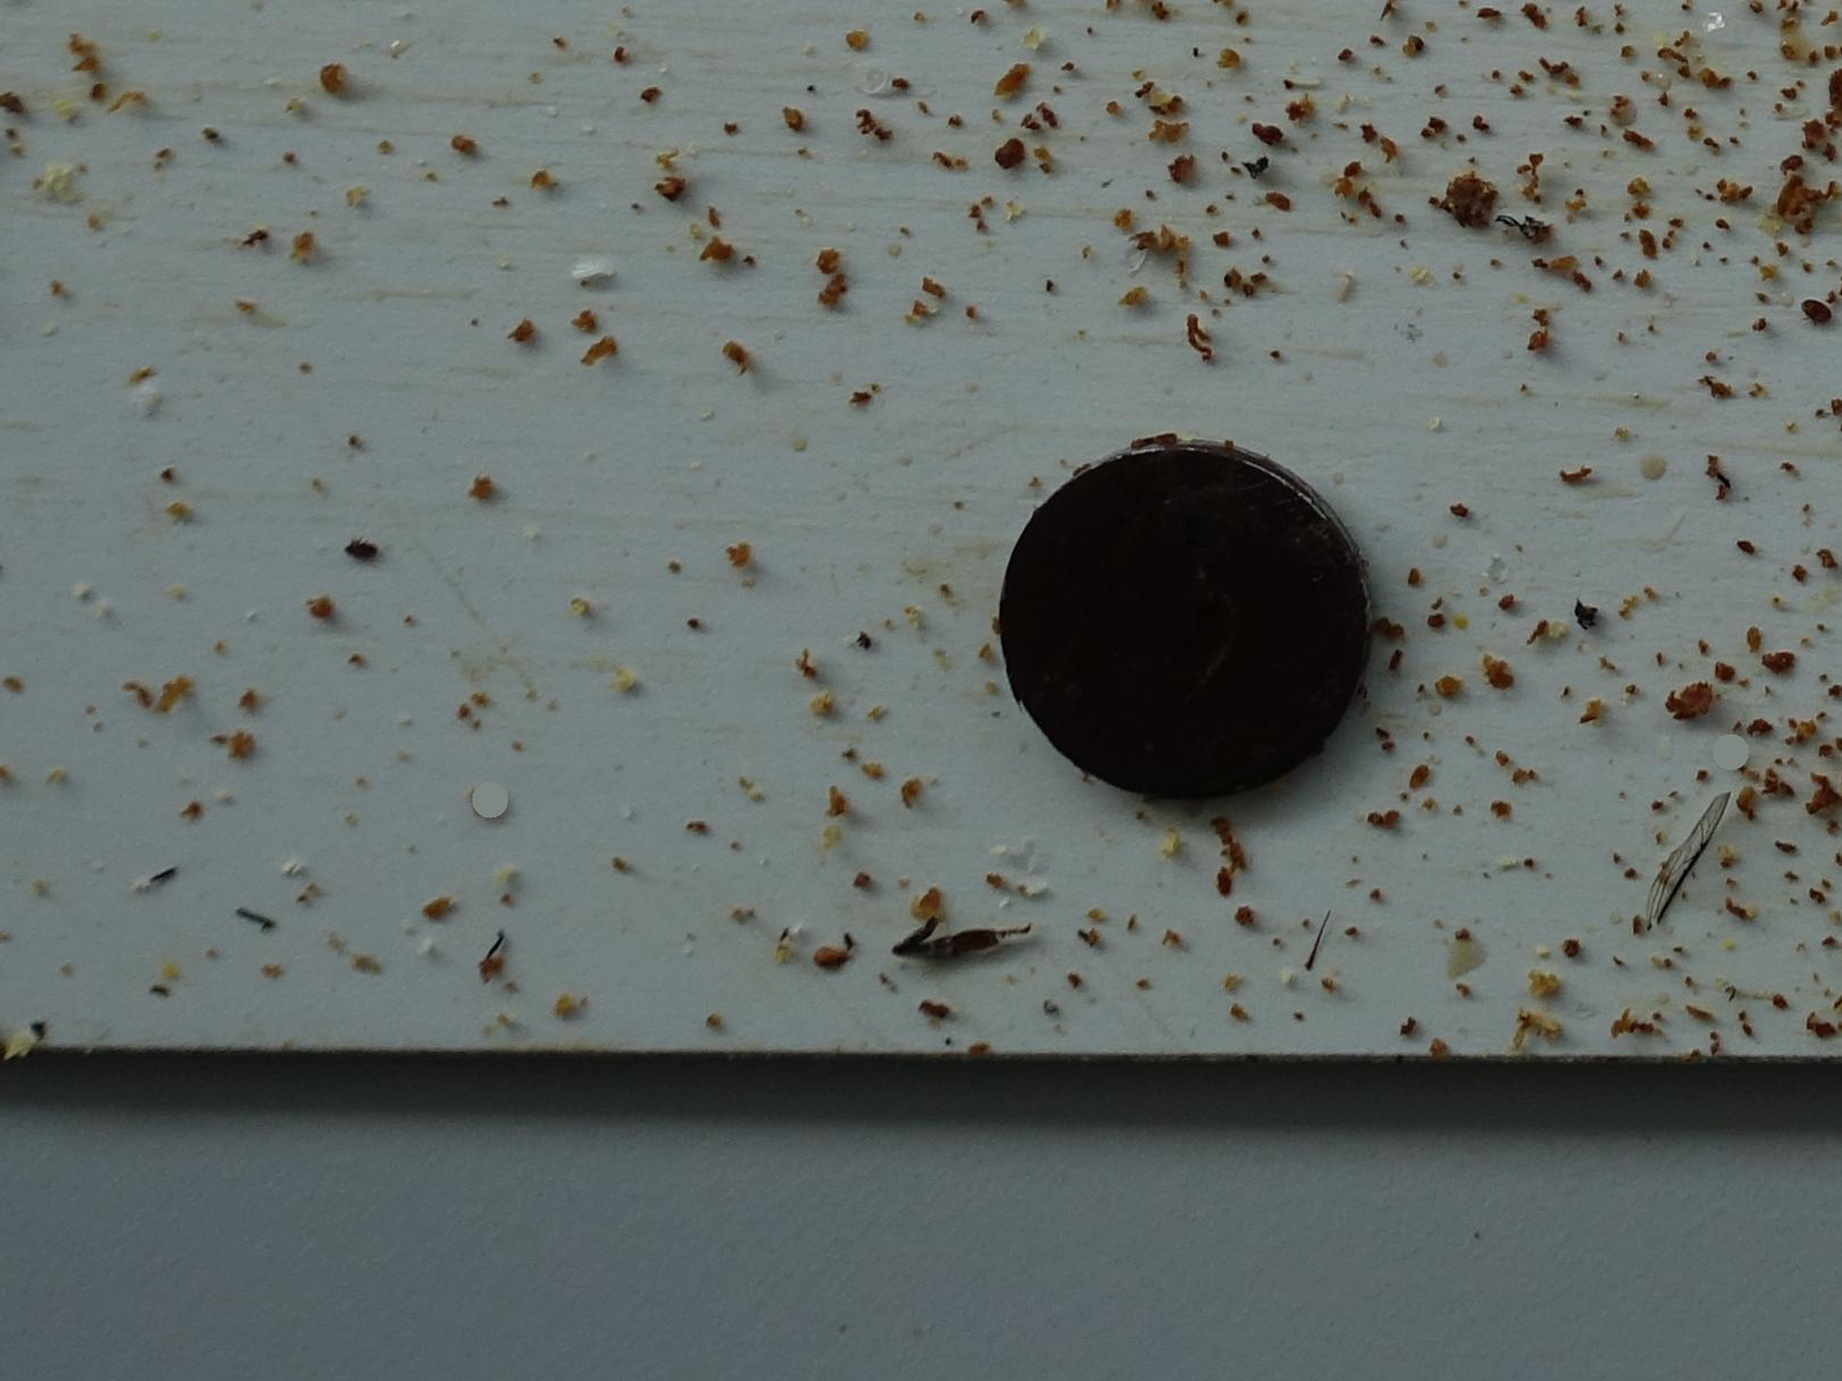Varroa: (350, 537, 379, 567), (1801, 297, 1827, 326)
